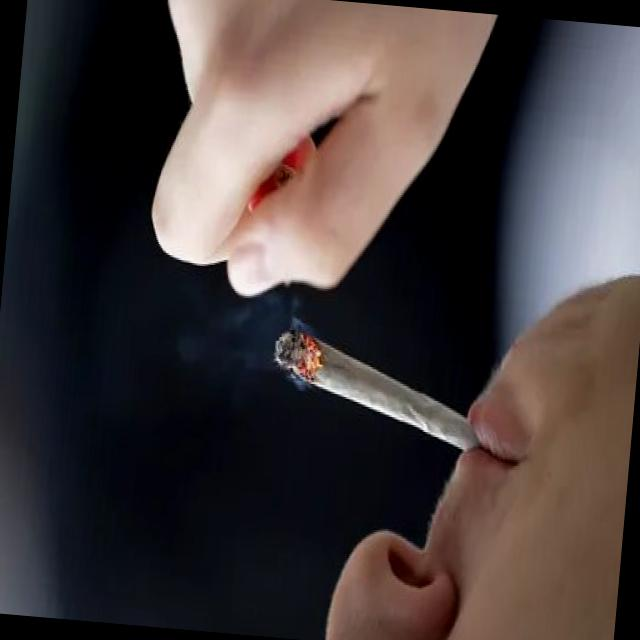smoke: (261, 320, 492, 460)
